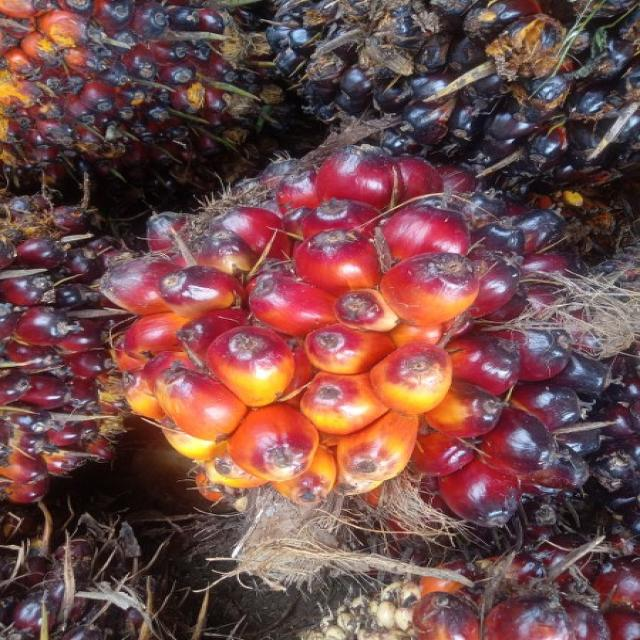fraksi 3: (35, 134, 640, 569)
